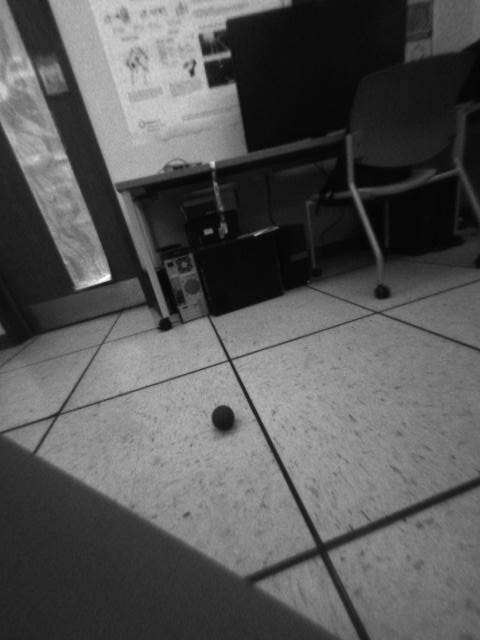dogtoy: (203, 400, 243, 437)
